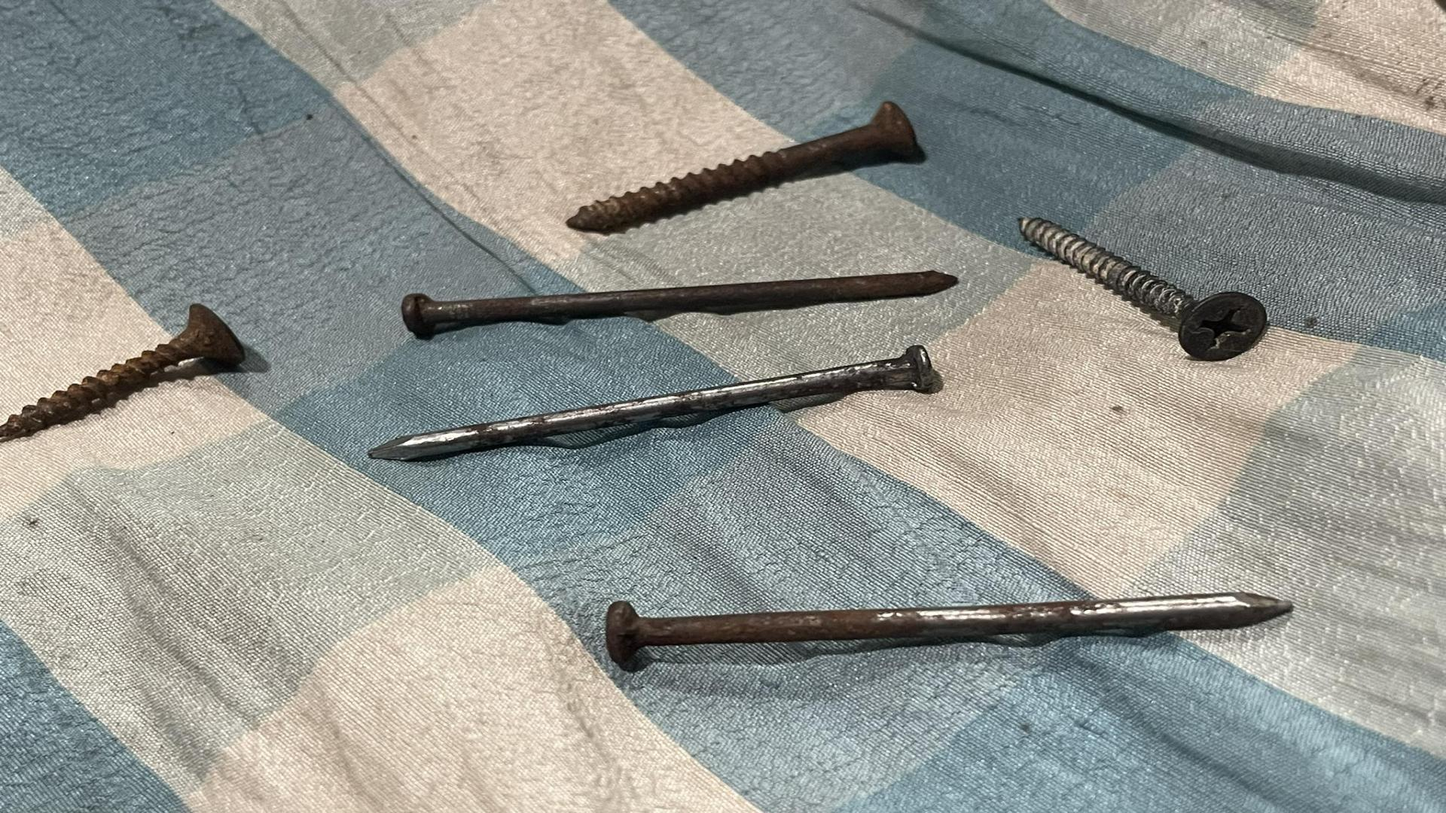nail: (551, 560, 1358, 712), (349, 342, 1005, 486), (374, 244, 988, 332)
screw: (537, 91, 956, 237), (0, 292, 279, 450), (1004, 197, 1257, 356)
